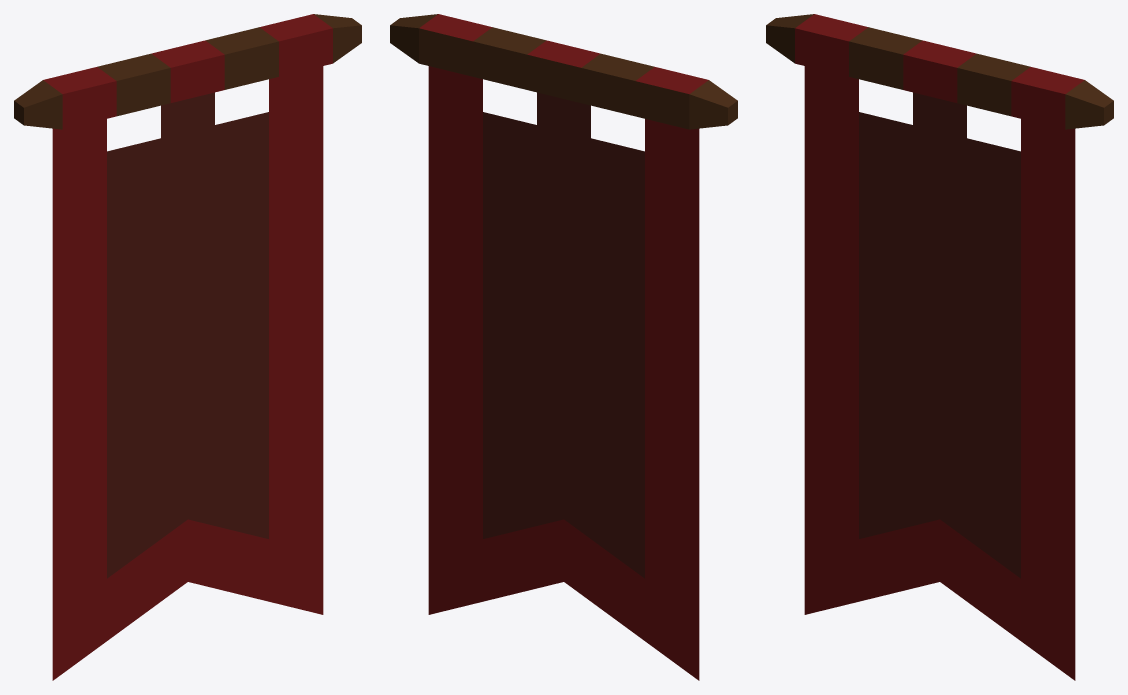
Rendered from banner1.fbx.
The picture shows the model from 3 angles, left to right: view 1: azimuth 30°, elevation 25°; view 2: azimuth 150°, elevation 25°; view 3: azimuth 330°, elevation 25°; orthographic projection.
Visible parts, largest first — view 1: banner_green; view 2: banner_green; view 3: banner_green.
Part boxes in pixels (x1,y1,x2,y2): banner_green: [14, 14, 361, 680]; banner_green: [390, 14, 737, 680]; banner_green: [766, 14, 1113, 680].
Size of the model in its own units: 5 by 8.39 by 0.5.
